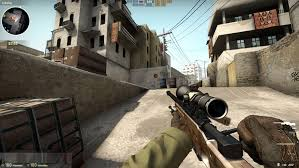gun: (164, 84, 259, 166)
